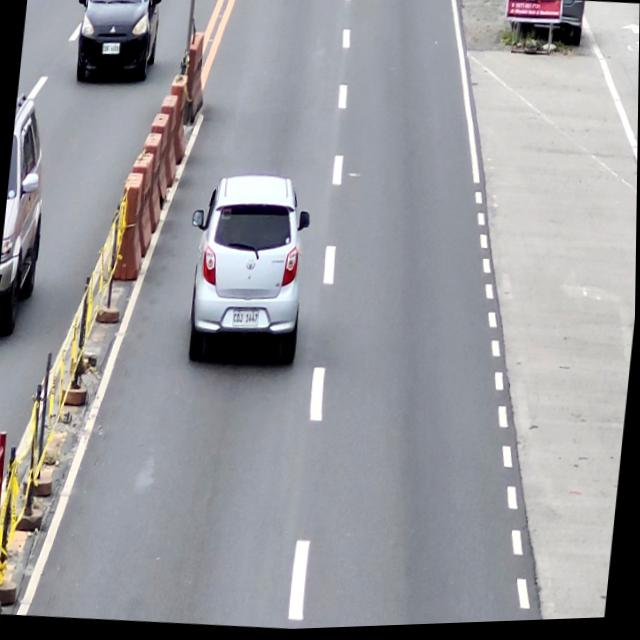Car: (178, 167, 316, 373)
License-Plate: (231, 311, 260, 329)
